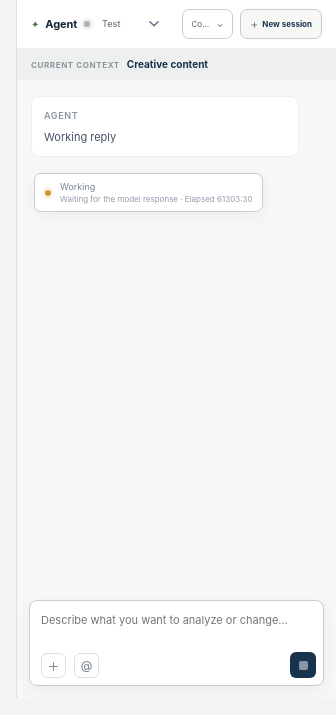
Scenario: AgentDock conversation history › replaces Send with Stop while a Turn is live and interrupts that Turn
Expected: the text "Working reply" is shown, [44,130,116,144]
Click the button named "Stop".
click(303, 665)  # box [290,652,316,678]
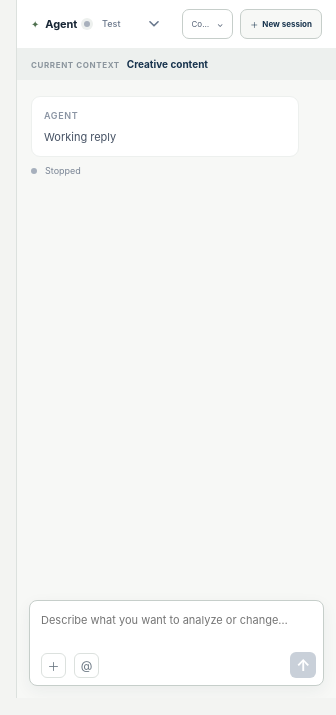
Now the text "Stopped" is shown, box [45,165,81,176]
Now the button "↑" is disabled, box [290,652,316,678]
